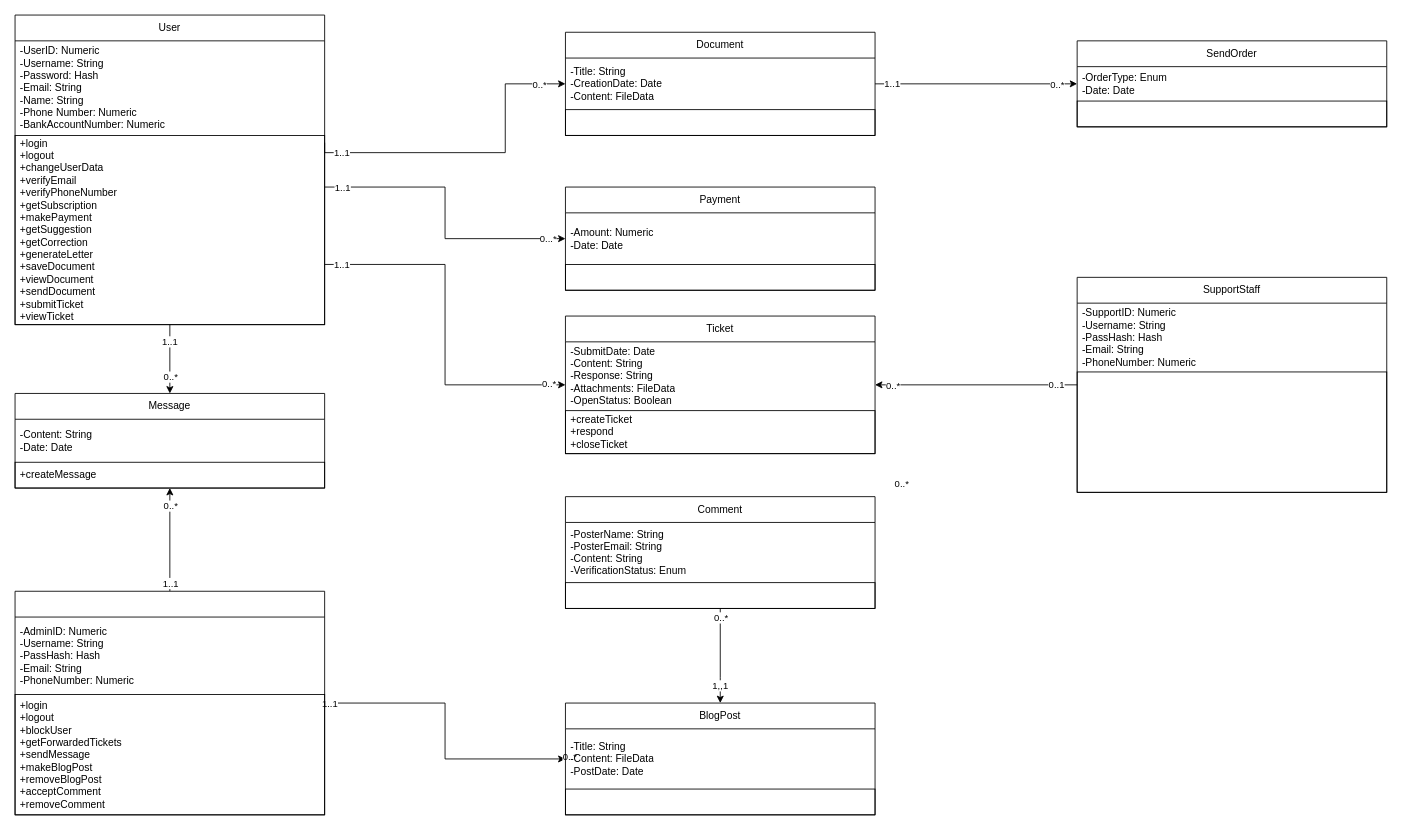
Image size: 1402x830. Some labels were removed from this diagram. Each missing label, with the box of its shape:
+createBlogPost: (565, 788, 875, 815)
+createComment: (565, 582, 875, 608)
+createDocument: (565, 109, 875, 135)
+createPaymentRecord: (565, 264, 875, 290)
+createSendOrder: (1076, 100, 1387, 127)
+login +logout +respondToTicket +closeTicket +forwardTicket: (1076, 371, 1387, 492)
Administrator: (14, 590, 325, 815)
